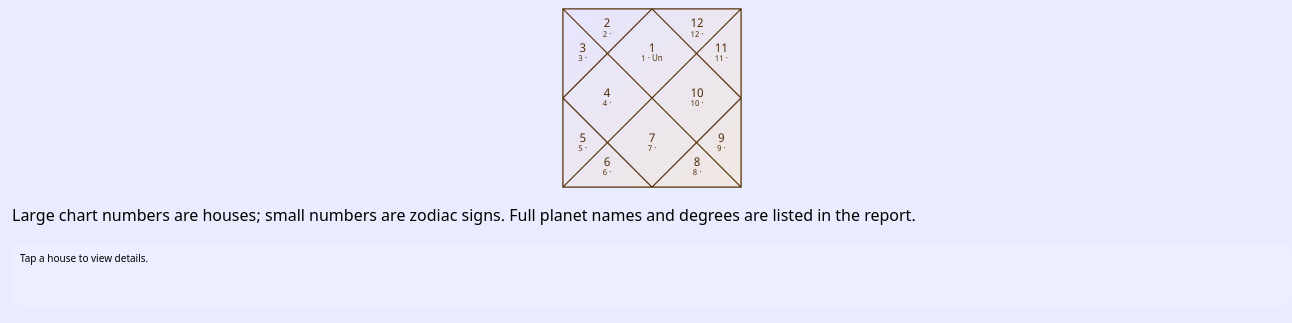
Test: displays a safe fallback for uncatalogued chart bodies
The width and height of the screenshot is (1292, 323).
Click the button with aria-label "House 1" at (652, 53), box [635, 36, 669, 70]
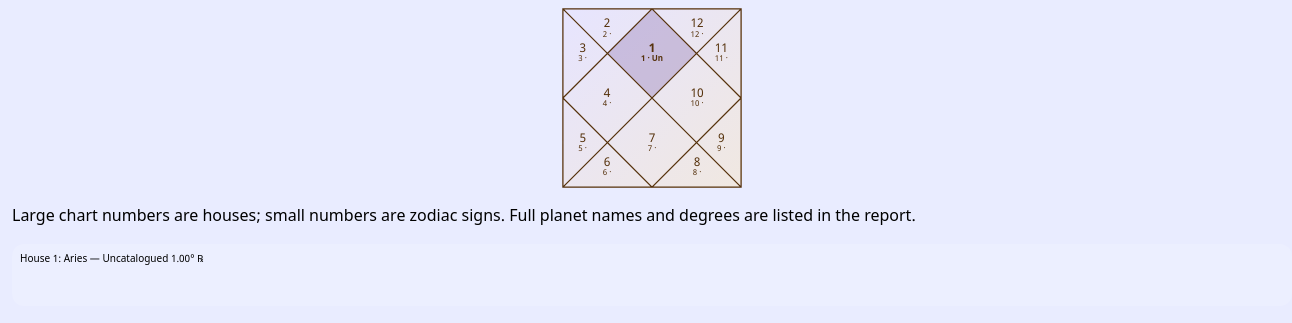
Now the text "House 1: Aries — Uncatalogued 1.00° ℞" is shown, box [12, 244, 1291, 306]
